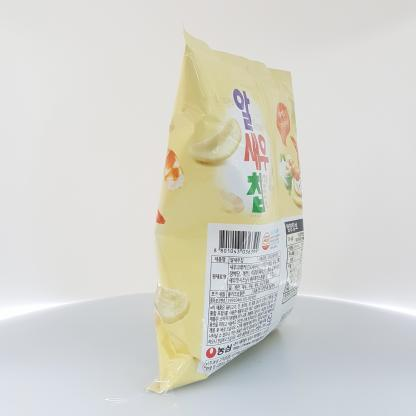Plastic Packaging: (139, 17, 324, 399)
